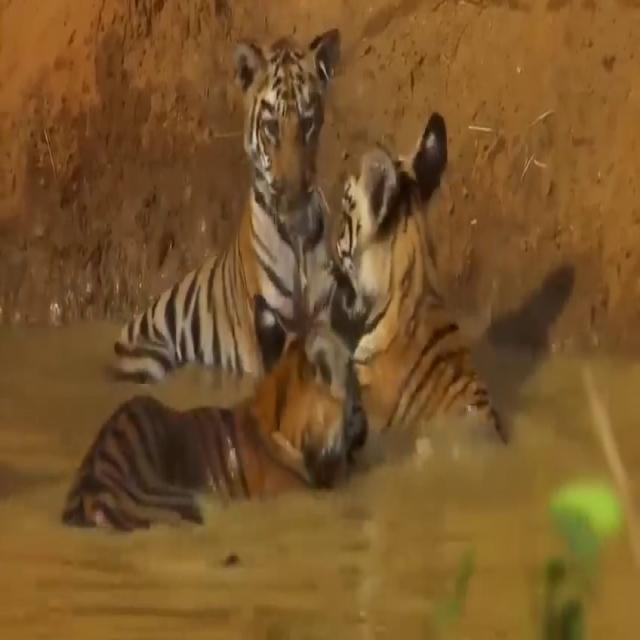tiger: (114, 22, 341, 365)
